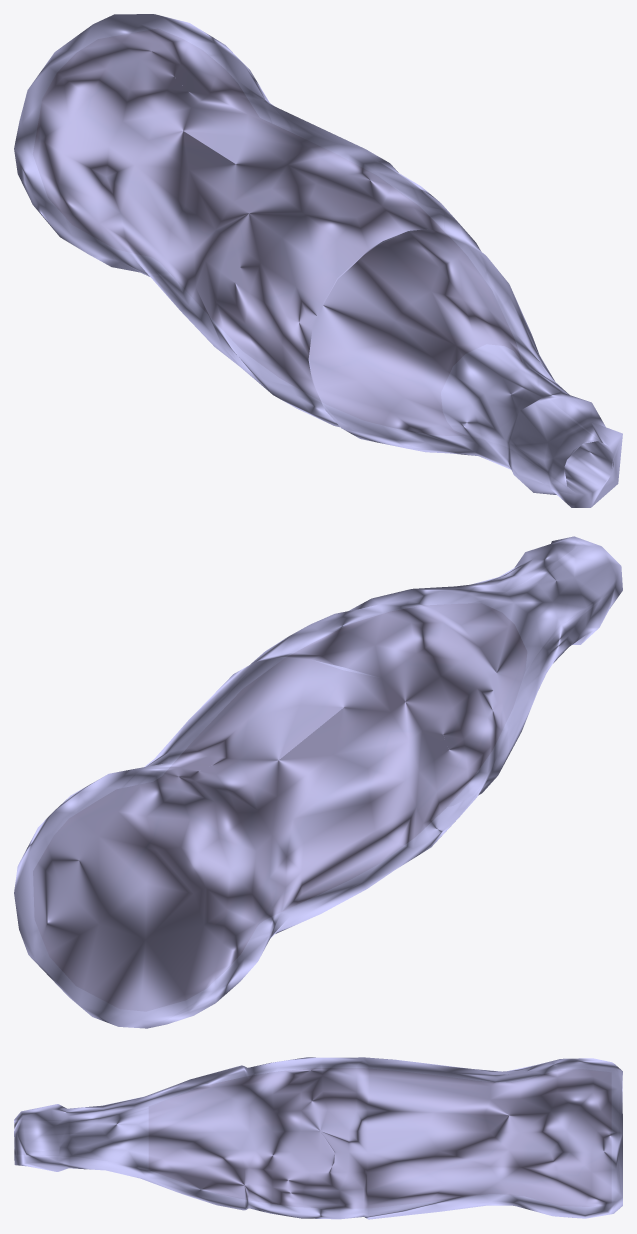
File: model_align.obj
3 renders of one model, top to bottom at view 1: azimuth 30°, elevation 25°; view 2: azimuth 150°, elevation 25°; view 3: azimuth 270°, elevation 25°, orthographic. The views are drawn at different scales.
Bounding box in the file's own units: 0.0696 × 0.0698 × 0.2599.
